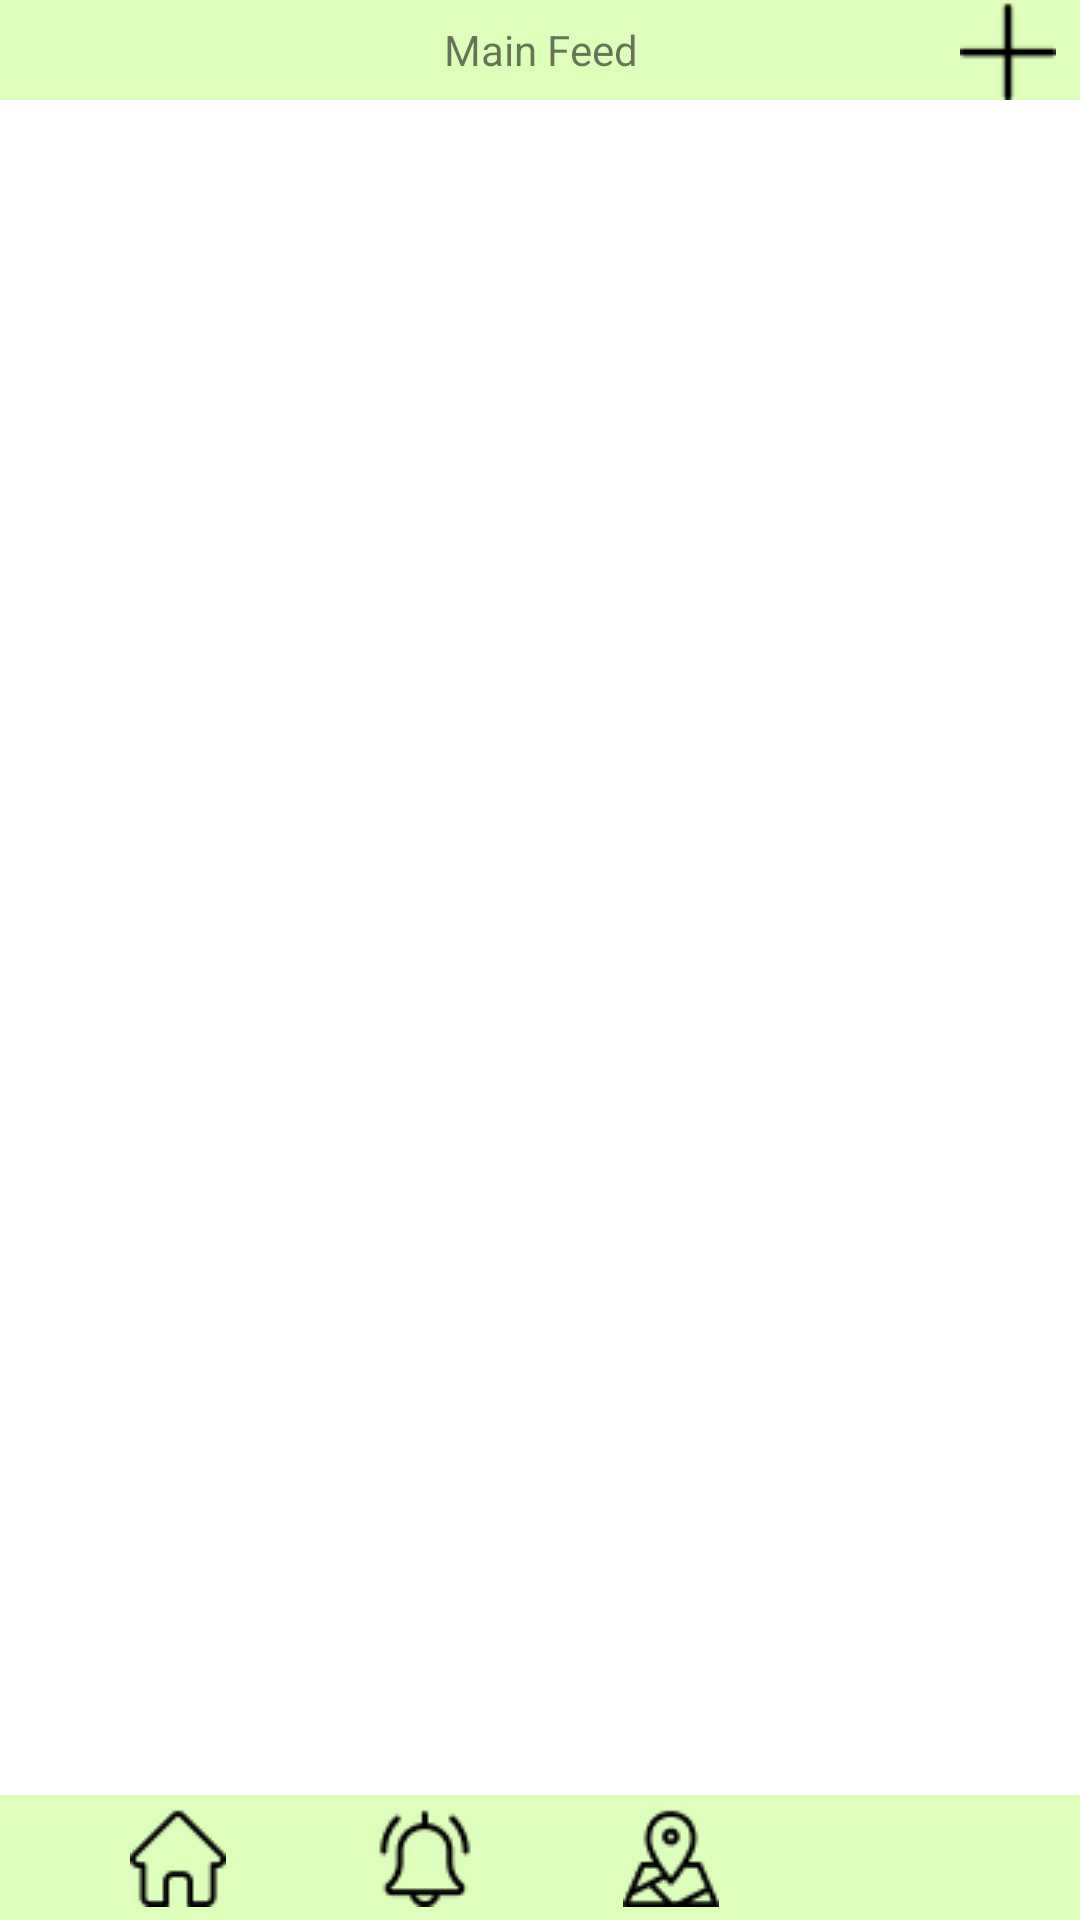

Icons on this 1080 × 1920 Android screen, each with its box as (x1, y1, x2, y2):
home: (130, 1810, 226, 1907)
maps: (623, 1810, 719, 1907)
reminder: (379, 1810, 471, 1907)
